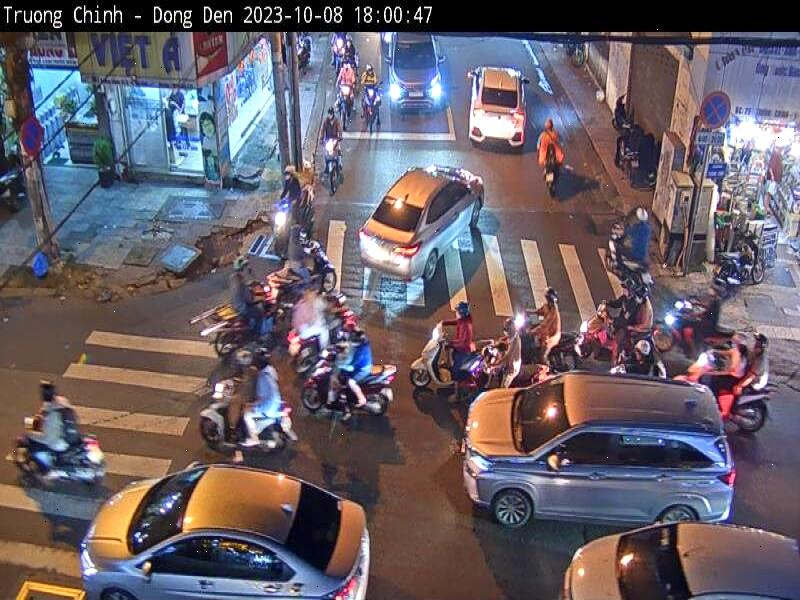car: (457, 380, 739, 533), (81, 472, 375, 600), (540, 514, 800, 600), (357, 157, 491, 293), (464, 62, 536, 157), (384, 31, 443, 115)
motorcycle: (296, 348, 400, 424), (6, 418, 110, 488), (202, 384, 292, 462), (413, 322, 488, 398), (582, 299, 660, 368), (504, 322, 586, 375)
